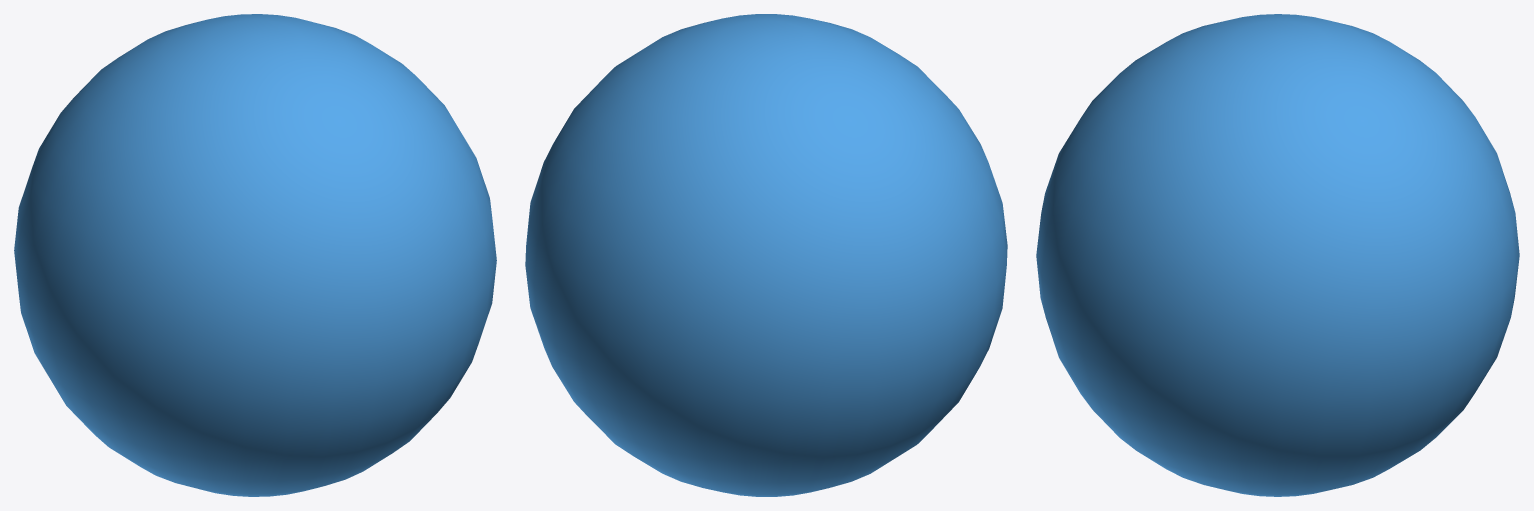
The model's file is ballPong.glb.
3 renders of one model, left to right at view 1: azimuth 30°, elevation 25°; view 2: azimuth 150°, elevation 25°; view 3: azimuth 270°, elevation 25°, orthographic.
Visible parts, largest first — view 1: Ball.001; view 2: Ball.001; view 3: Ball.001.
Part boxes in pixels (x1,y1,x2,y2): Ball.001: [14, 14, 496, 496]; Ball.001: [525, 14, 1007, 496]; Ball.001: [1036, 14, 1519, 496].
Size of the model in its own units: 1.23 by 1.23 by 1.23.
